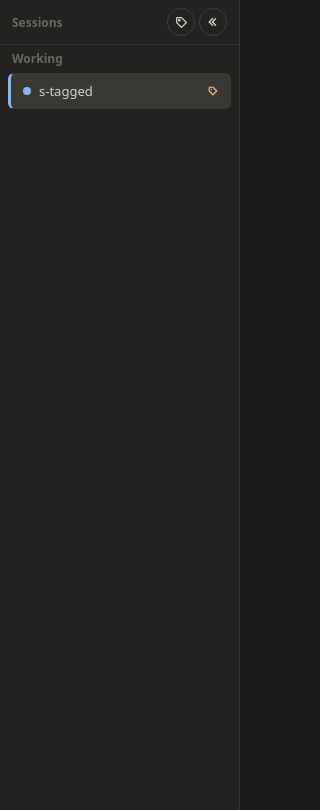
it: AttentionRail — tags (T-27, T-28) › the Edit picker offers global + this row's own-workspace tags, never another workspace's
Click the button with test id "rail-tags-peek" at (213,91), box [203,81,223,101]
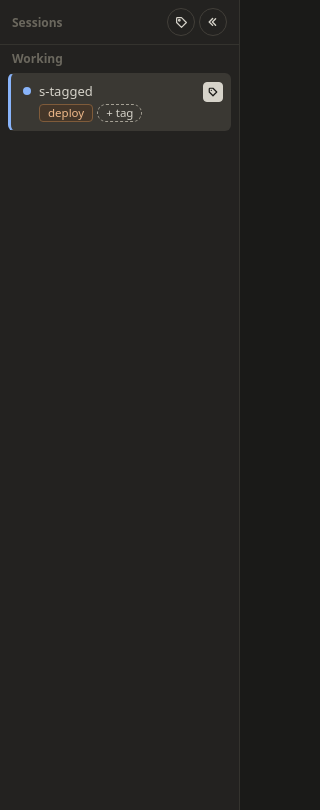
Click the button with test id "rail-tags-add" at (120,113), box [97,104,142,122]
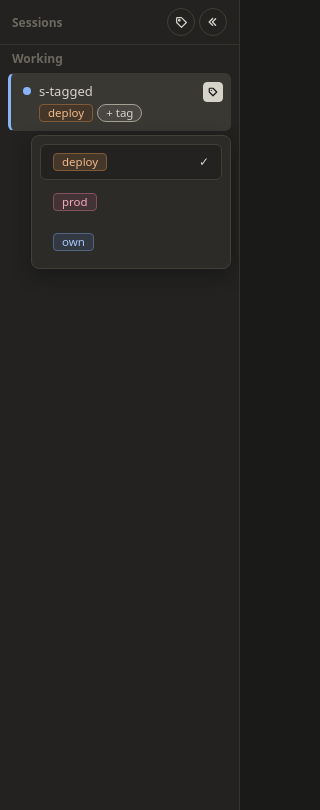
Expected: the checkbox with test id "rail-tag-picker-row-t-own" is shown, [40,224,222,260]
Expected: the checkbox with test id "rail-tag-picker-row-t-deploy" is shown, [40,144,222,180]
